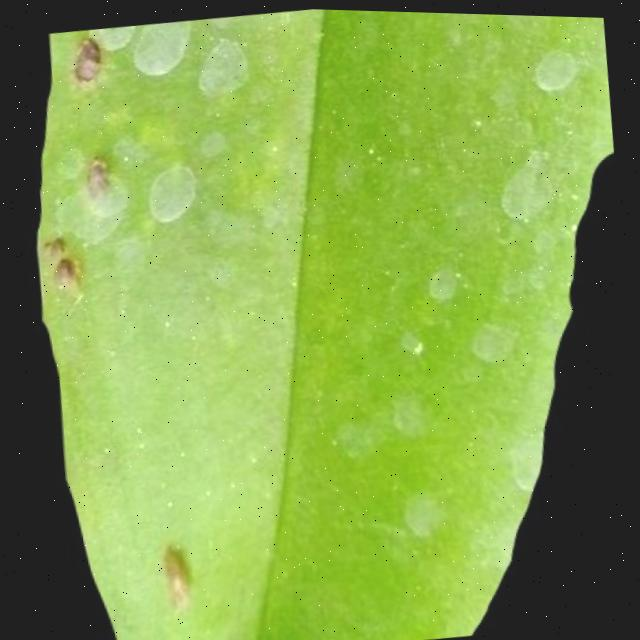mite: (23, 12, 272, 299), (26, 30, 128, 297), (68, 12, 256, 110), (191, 30, 251, 96), (144, 158, 202, 224), (402, 485, 455, 537), (528, 39, 582, 89), (470, 311, 523, 361), (424, 257, 465, 300), (87, 23, 143, 51), (194, 122, 231, 158), (50, 252, 82, 290), (42, 232, 70, 258)
sunburn: (159, 534, 205, 610)
